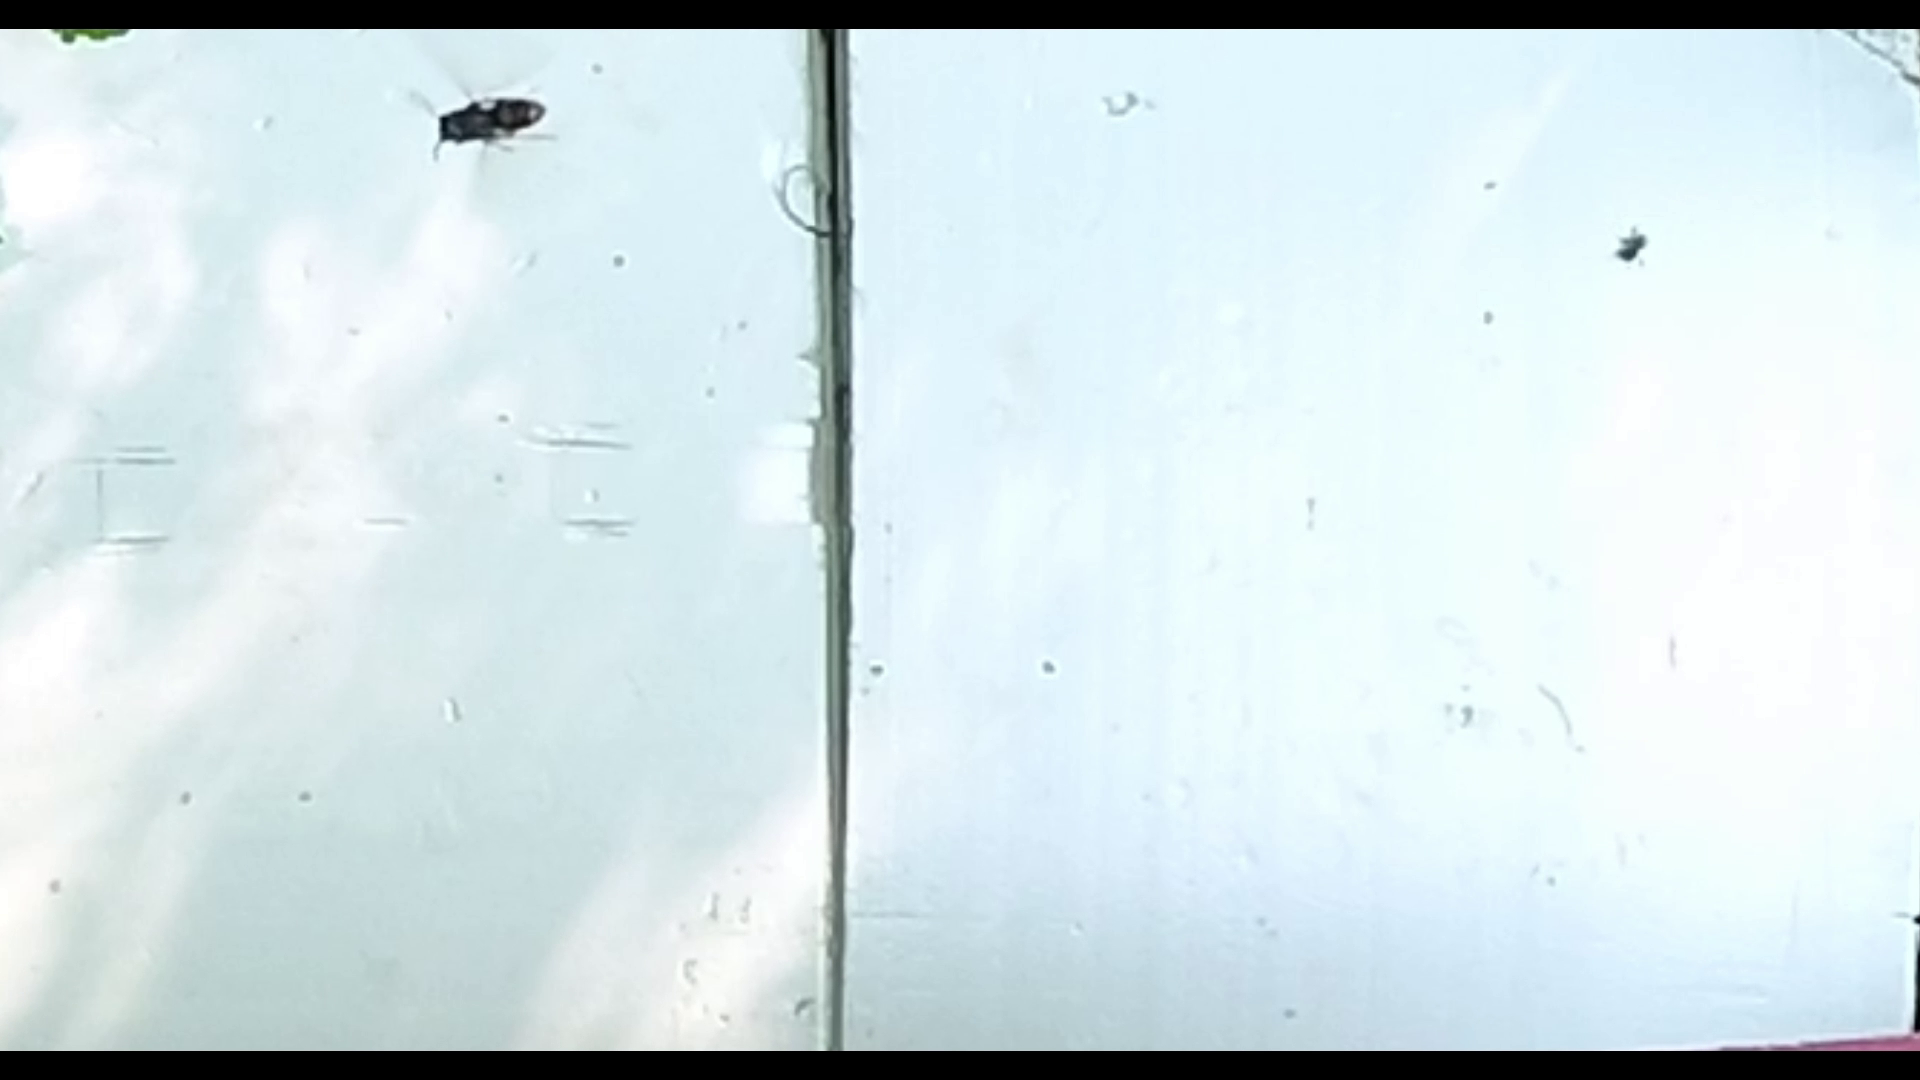Asian_hornets: (386, 49, 578, 181)
